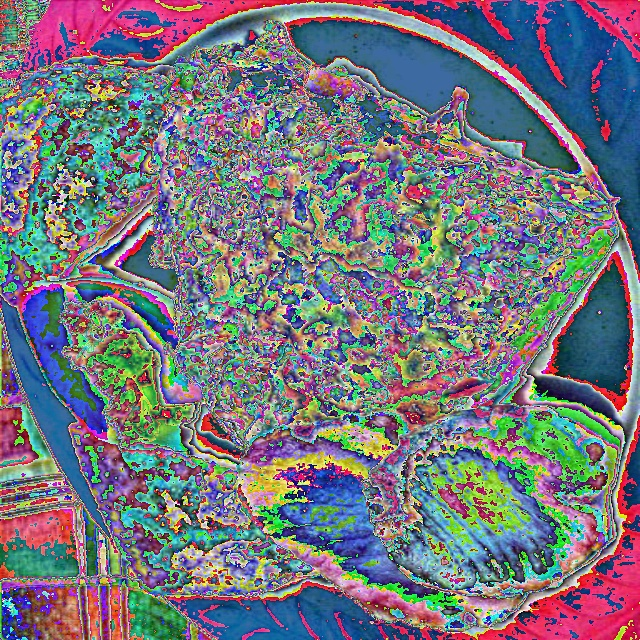background: (0, 20, 620, 632)
